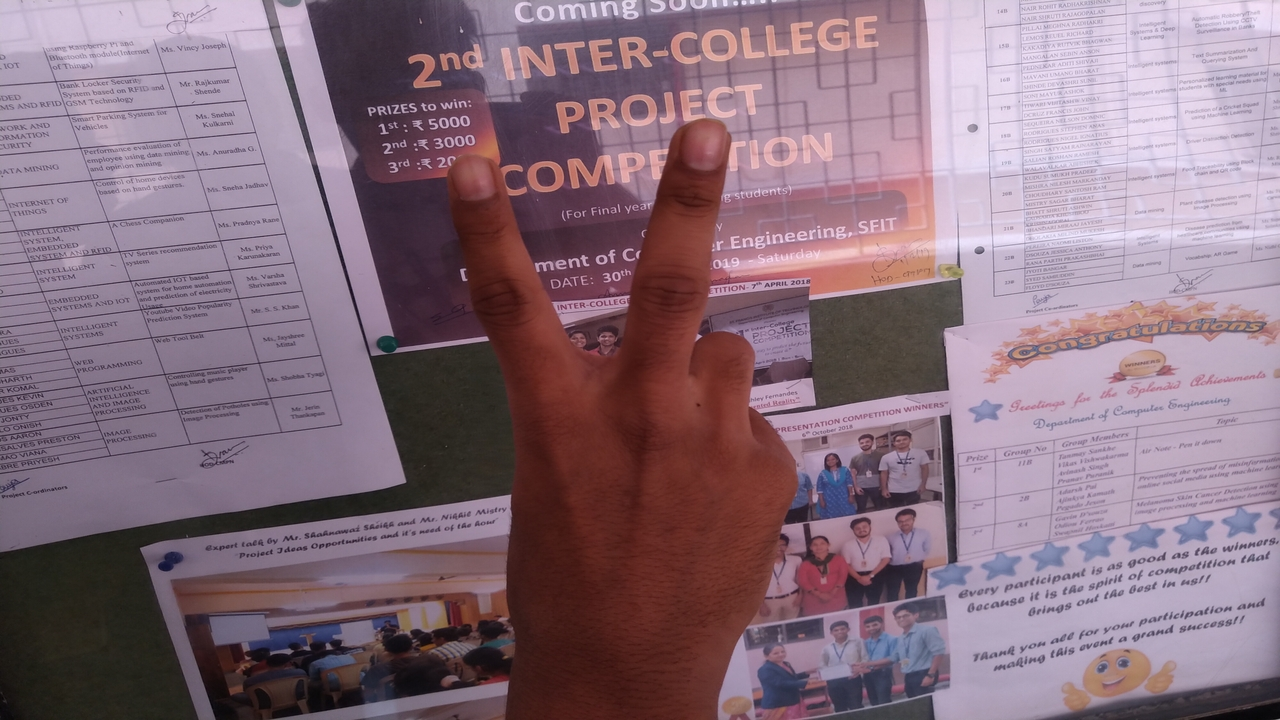fingertip: (668, 116, 740, 176), (442, 144, 508, 208)
